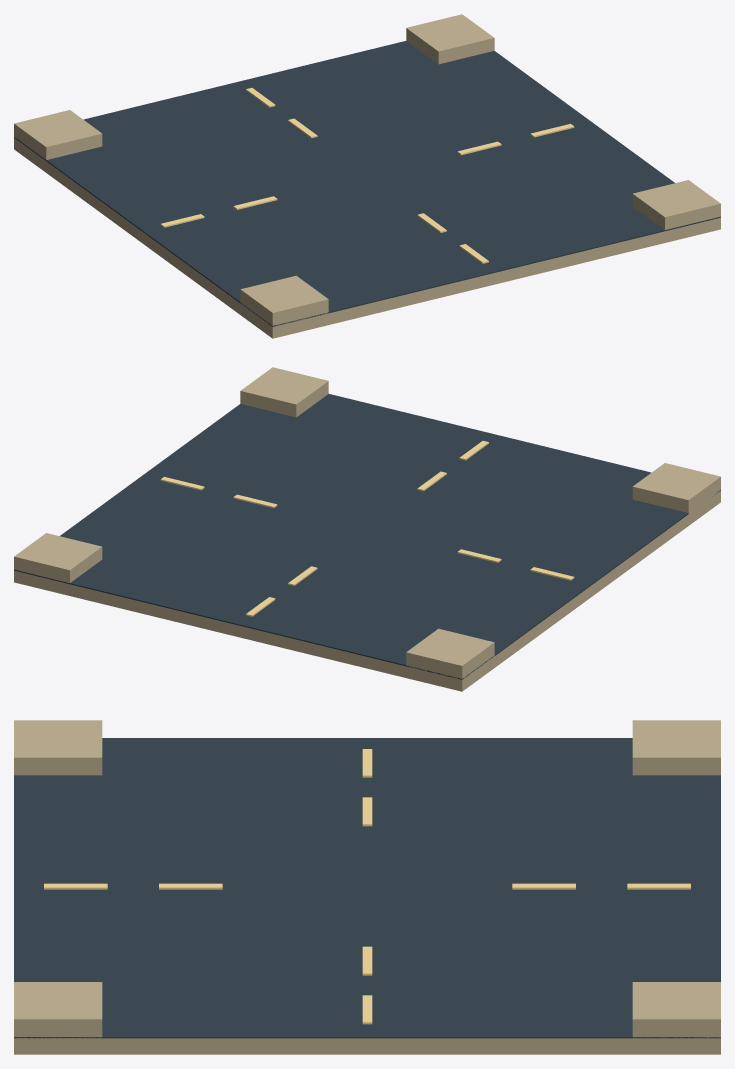
File: road_cross.glb
The picture shows the model from 3 angles, top to bottom: view 1: azimuth 30°, elevation 25°; view 2: azimuth 150°, elevation 25°; view 3: azimuth 270°, elevation 25°; orthographic projection. The views are drawn at different scales.
Visible parts, largest first — view 1: asphalt, tile, corner_pavement, corner_pavement.001, corner_pavement.003, corner_pavement.002; view 2: asphalt, tile, corner_pavement.001, corner_pavement, corner_pavement.003, corner_pavement.002; view 3: asphalt, tile, corner_pavement, corner_pavement.001, corner_pavement.002, corner_pavement.003.
Part boxes in pixels (x1,y1,x2,y2): asphalt: (14,41,720,326); tile: (14,138,720,338); corner_pavement: (240,275,328,326); corner_pavement.001: (14,110,102,159); corner_pavement.003: (406,14,494,64); corner_pavement.002: (632,180,720,229); asphalt: (14,394,720,679); tile: (14,491,720,691); corner_pavement.001: (406,628,494,679); corner_pavement: (632,463,720,513); corner_pavement.003: (14,533,102,583); corner_pavement.002: (240,367,328,417); asphalt: (14,738,720,1038); tile: (14,1038,720,1054); corner_pavement: (14,720,102,775); corner_pavement.001: (632,720,720,775); corner_pavement.002: (14,982,102,1038); corner_pavement.003: (632,982,720,1037).
Size of the model in its own units: 4 by 0.22 by 4.
